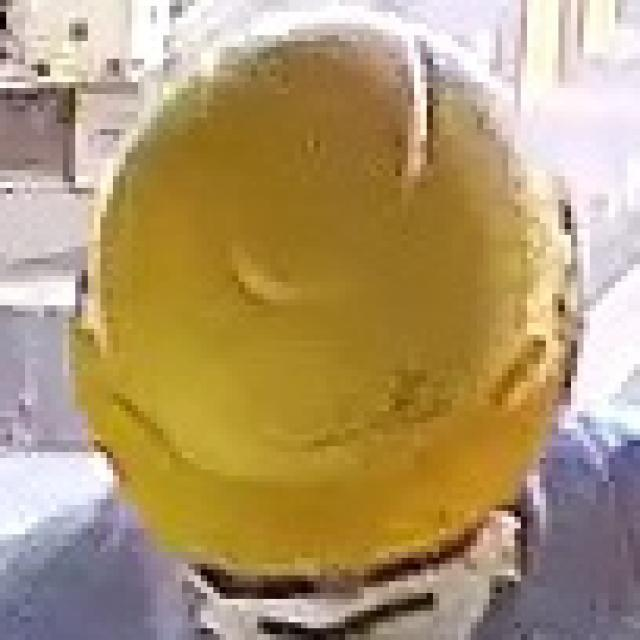yellow helmet: (59, 19, 585, 579)
